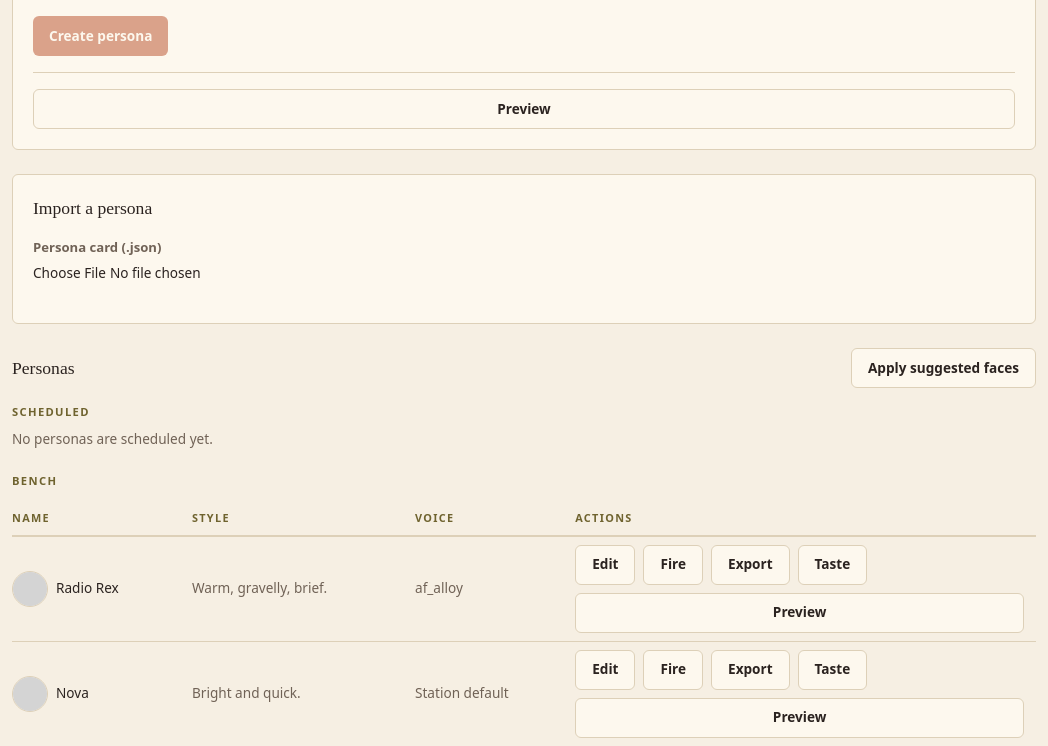
Scenario: Feature: Author personas from the console › Scenario: preview failure is honest (sad path) › toasts the 502 when the LLM is unreachable — never shows template text as the persona's (F35.6)
The image size is (1048, 746).
(page scrolled)
Click the button "Preview" in the row of "Radio Rex".
click(800, 612)  # box [575,592,1024,632]
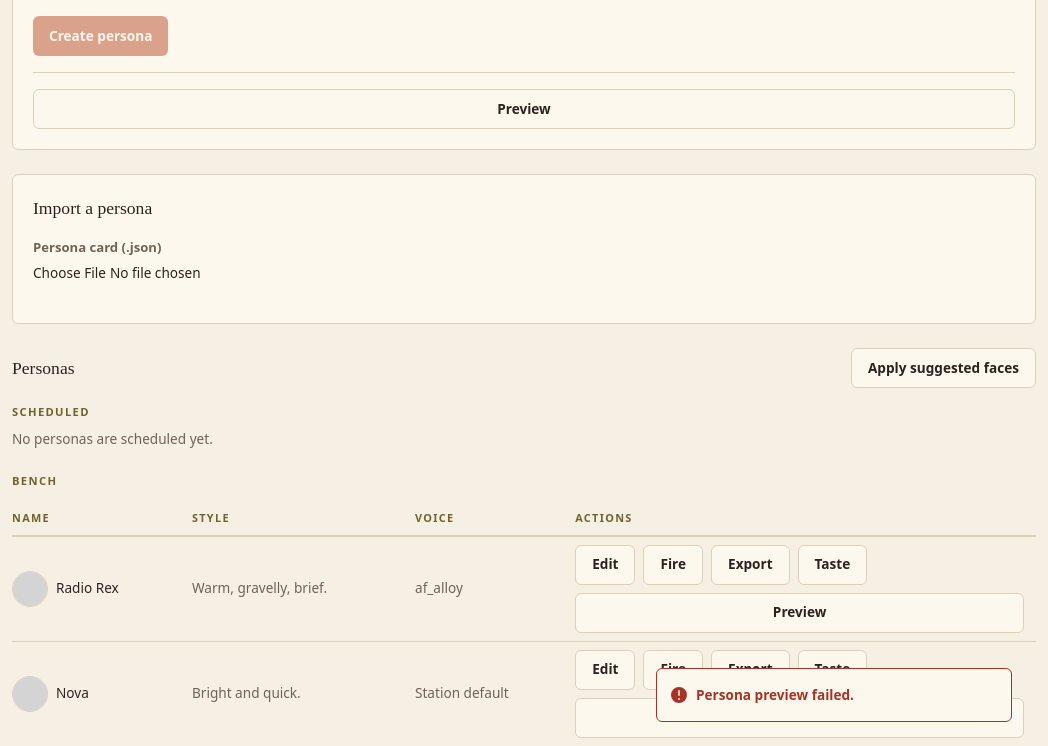
Check: the text "Persona preview failed." is shown, box [696,685,854,705]
